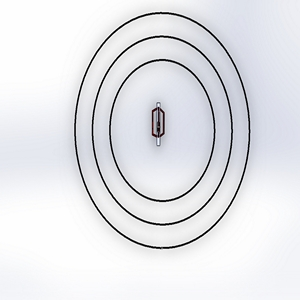circle: (69, 6, 256, 255)
submarine: (136, 94, 177, 152)
